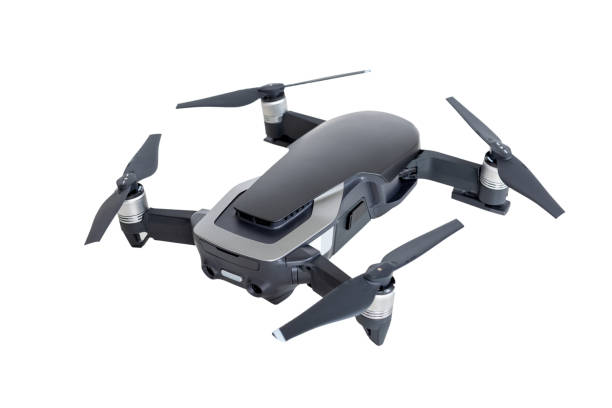Drone: (72, 63, 566, 355)
